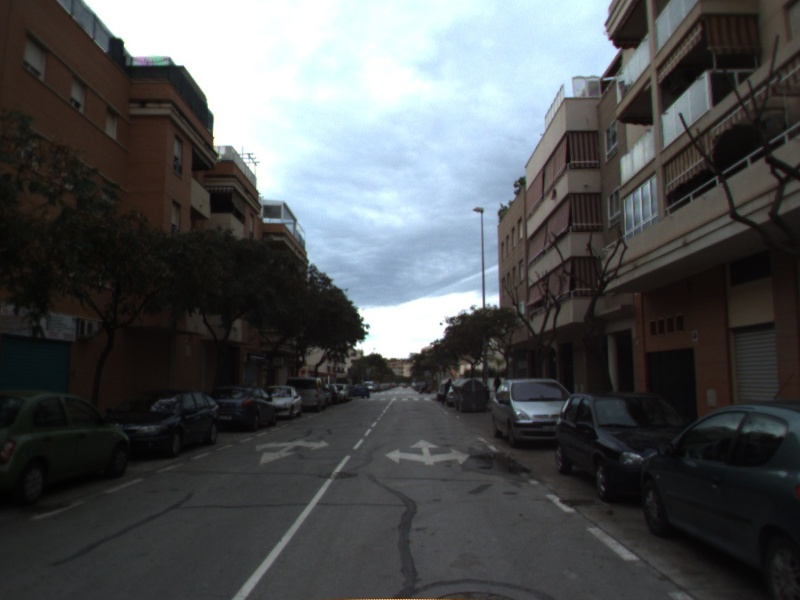STRAIGHT_LEFT_RIGHT: (383, 437, 472, 467)
